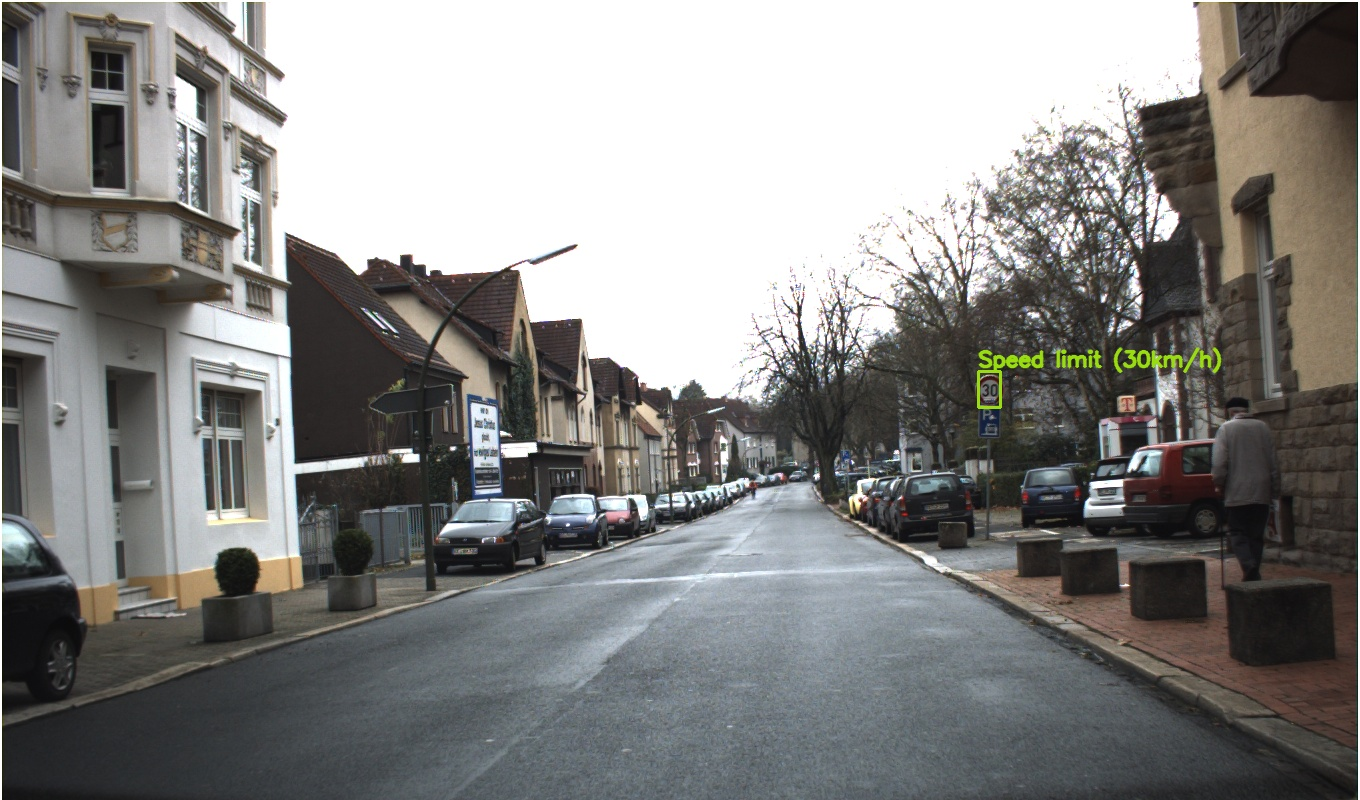Keep right: (100, 423, 168, 495)
Speed limit (50km/h): (907, 446, 932, 471)
